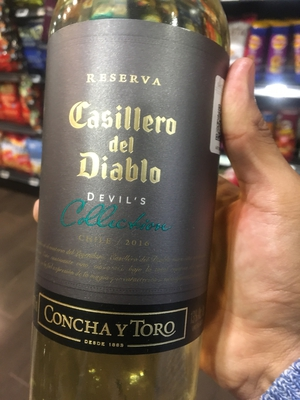casillero del diablo devils collection verde: (31, 8, 210, 378)
